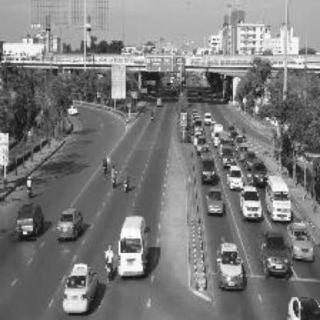other: (206, 232, 252, 292), (197, 142, 213, 162)
